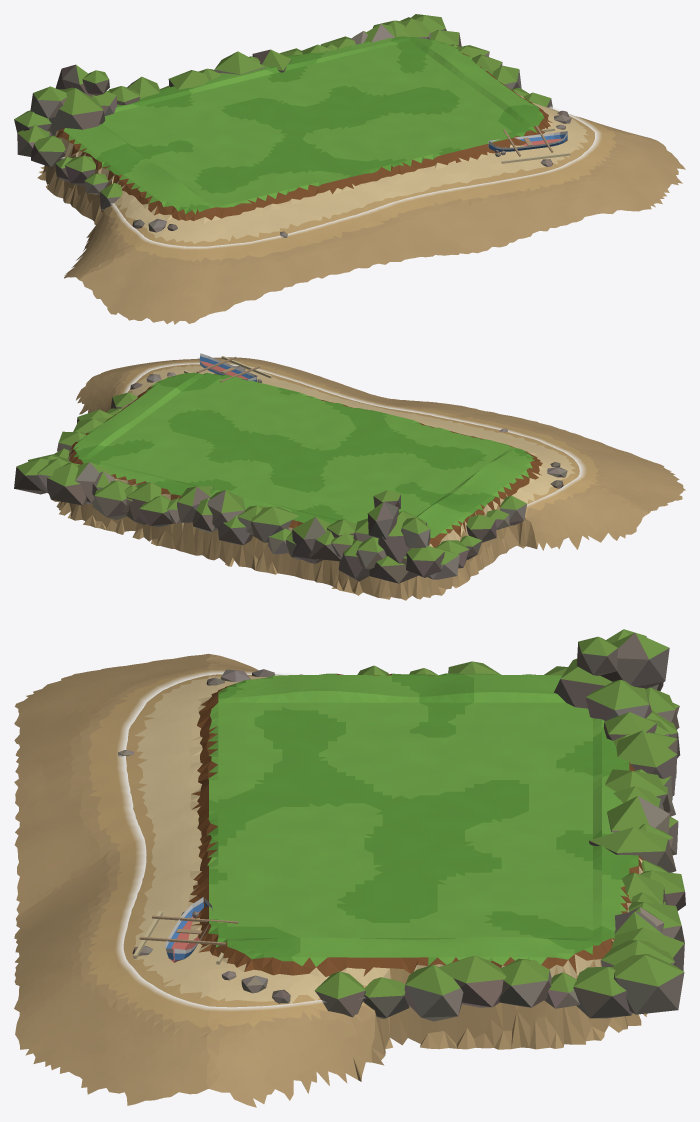
File: valora-island-ph.glb
The picture shows the model from 3 angles, top to bottom: view 1: azimuth 30°, elevation 25°; view 2: azimuth 150°, elevation 25°; view 3: azimuth 270°, elevation 25°; orthographic projection. The views are drawn at different scales.
Parts seen in each view (by area): view 1: island, foam; view 2: island, foam; view 3: island, foam.
Boxes of the visible parts, box(x1,y1,x2,y2) form: island: box(14, 14, 685, 324); foam: box(61, 106, 600, 248); island: box(14, 353, 685, 600); foam: box(122, 362, 585, 506); island: box(14, 629, 685, 1107); foam: box(117, 671, 364, 1010).
Bounding box in the file's own units: 36.04 × 5.94 × 23.53.
